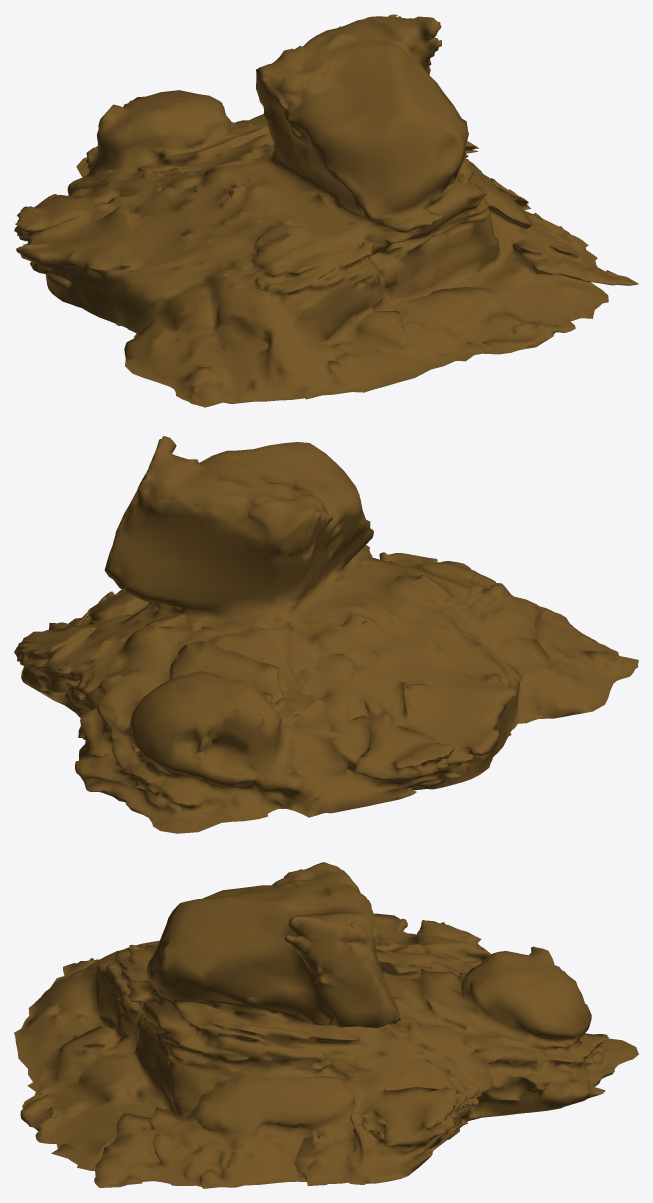
Rendered from Mesh_Obstacle_03_AC.FBX.
The picture shows the model from 3 angles, top to bottom: view 1: azimuth 30°, elevation 25°; view 2: azimuth 150°, elevation 25°; view 3: azimuth 270°, elevation 25°; orthographic projection. The views are drawn at different scales.
Parts seen in each view (by area): view 1: MESH_LOD0; view 2: MESH_LOD0; view 3: MESH_LOD0.
Part boxes in pixels (<box>): MESH_LOD0: <box>14,14,638,407</box>; MESH_LOD0: <box>14,436,638,833</box>; MESH_LOD0: <box>14,862,638,1188</box>.
Size of what is drawn, in the model's own units: 131 by 57.67 by 149.
